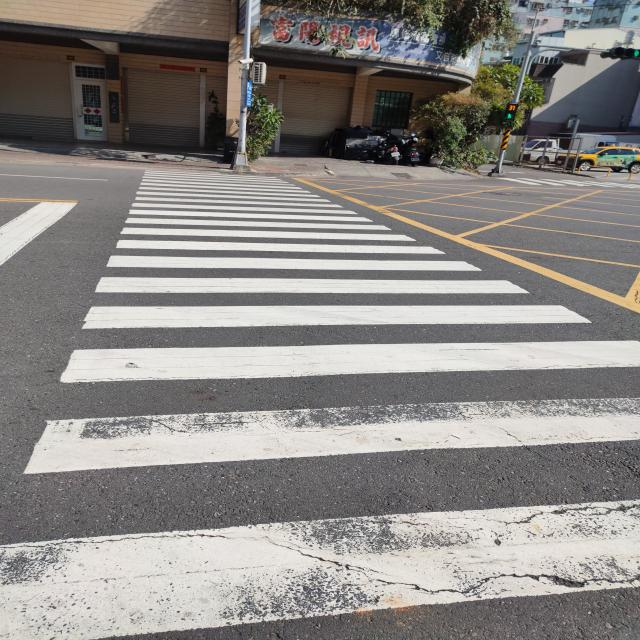zebra crossing: (0, 171, 640, 638)
